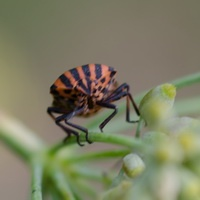insect: (47, 64, 128, 144)
